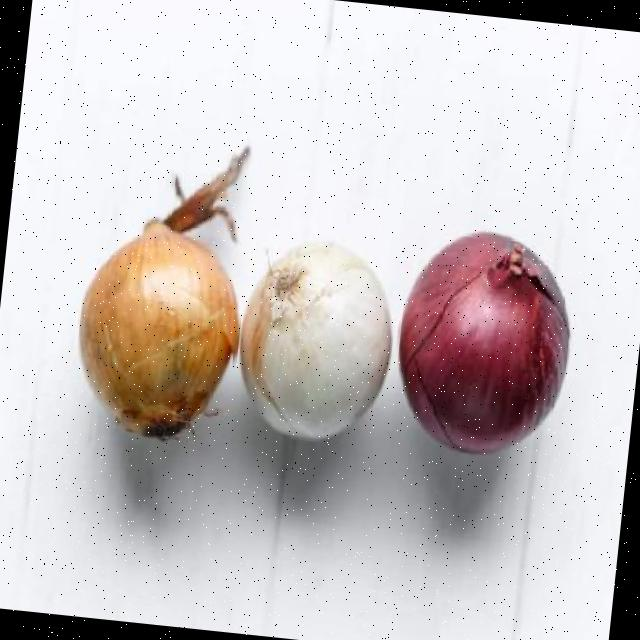Onion: (399, 232, 571, 454), (78, 219, 239, 439), (240, 243, 392, 441)
